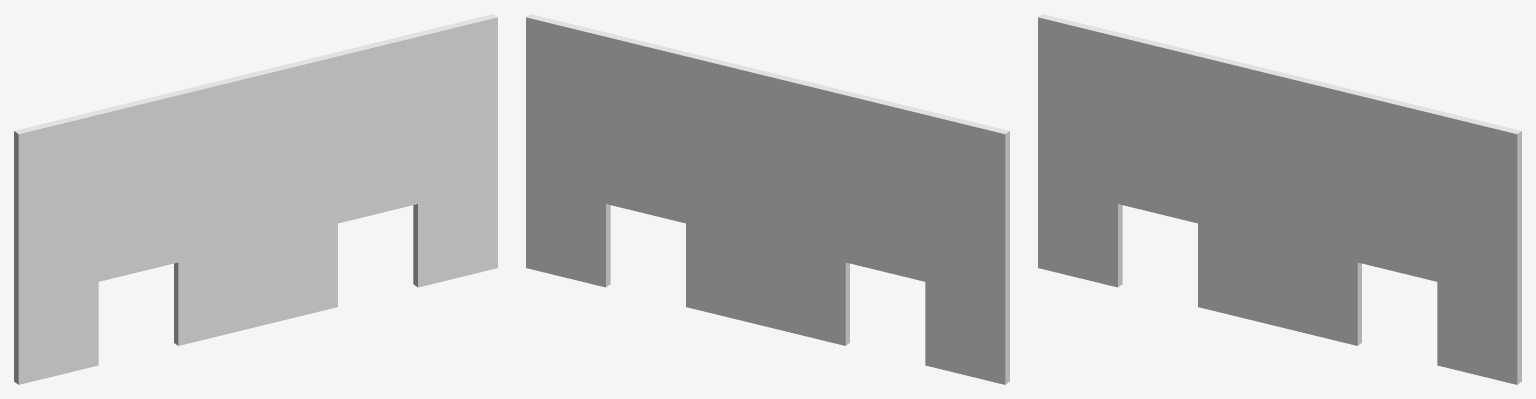
Rendered from Wall.obj.
3 renders of one model, left to right at view 1: azimuth 30°, elevation 25°; view 2: azimuth 150°, elevation 25°; view 3: azimuth 330°, elevation 25°, orthographic.
Parts seen in each view (by area): view 1: Cube; view 2: Cube; view 3: Cube.
Part boxes in pixels (x1=…): Cube: x1=14, y1=14, x2=497, y2=384; Cube: x1=526, y1=14, x2=1009, y2=384; Cube: x1=1038, y1=14, x2=1521, y2=384.
Size of the model in its own units: 60 by 30 by 1.
